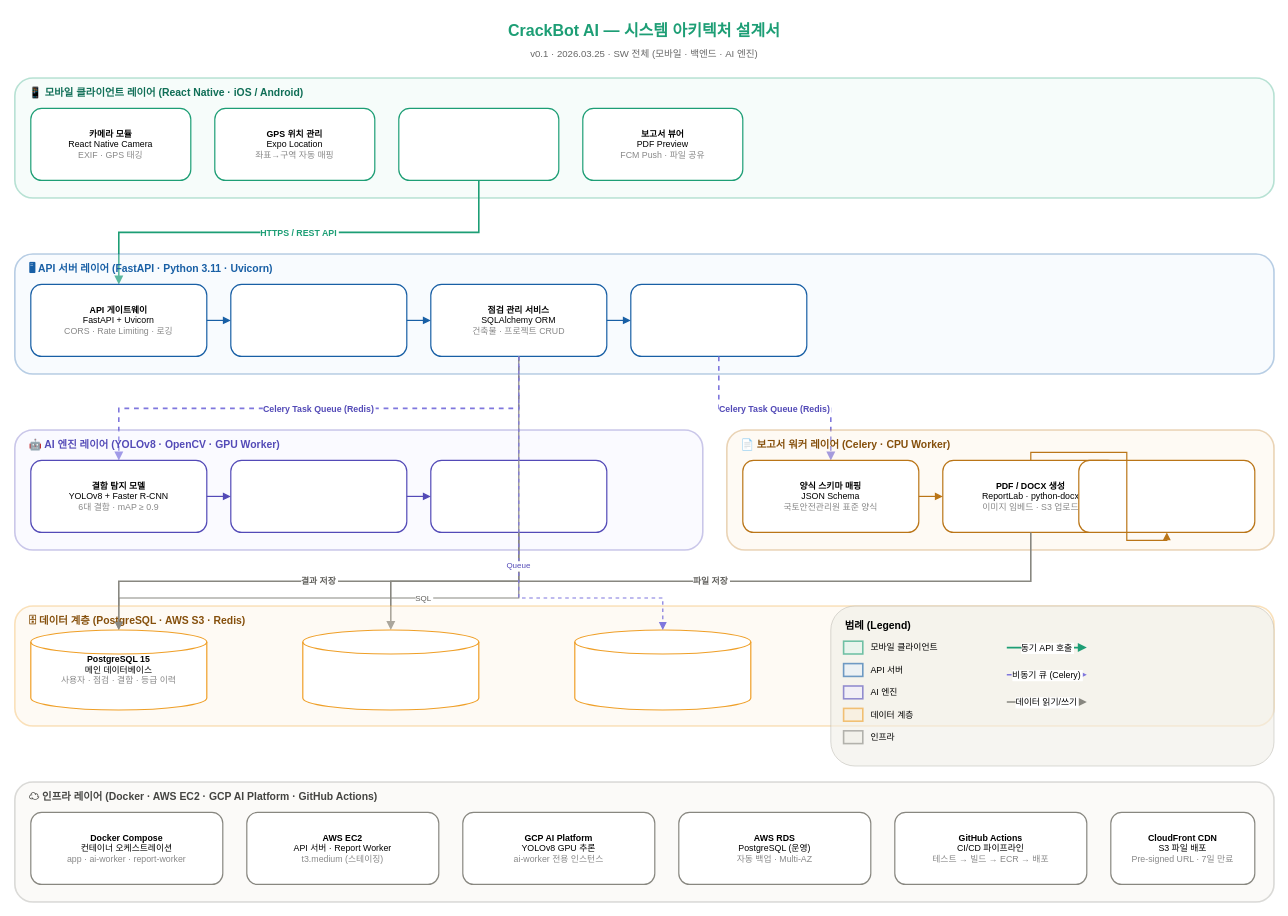
This 1288x916 diagram has some shape labels left out. The shapes that lost their labels are listed below. From the top down, each one's box as (x1, y1, x2, y2) in pixels, then its label:
(398, 107, 559, 181): 사진 분류 / 관리 AsyncStorage 오프라인 큐 · S3 Upload
(230, 283, 407, 357): 인증 / 인가 JWT + OAuth2 Access(15m) · Refresh(7d)
(630, 283, 807, 357): 보고서 생성 서비스 Celery (비동기) python-docx · ReportLab
(230, 459, 407, 533): 균열 폭 측정 OpenCV + PIL Canny → 골격화 → 0.1mm
(430, 459, 607, 533): 등급 판정 엔진 규칙 기반 + ML 앙상블 A~E 등급 · 국토안전관리원
(1078, 459, 1255, 533): FCM 푸시 발송 Firebase Cloud Messaging 보고서 완성 알림
(302, 629, 479, 710): AWS S3 이미지 / 파일 스토리지 원본 · 오버레이 · PDF/DOCX
(574, 629, 751, 710): Redis 7 캐시 / 작업 큐 Celery Broker · 분산 락
